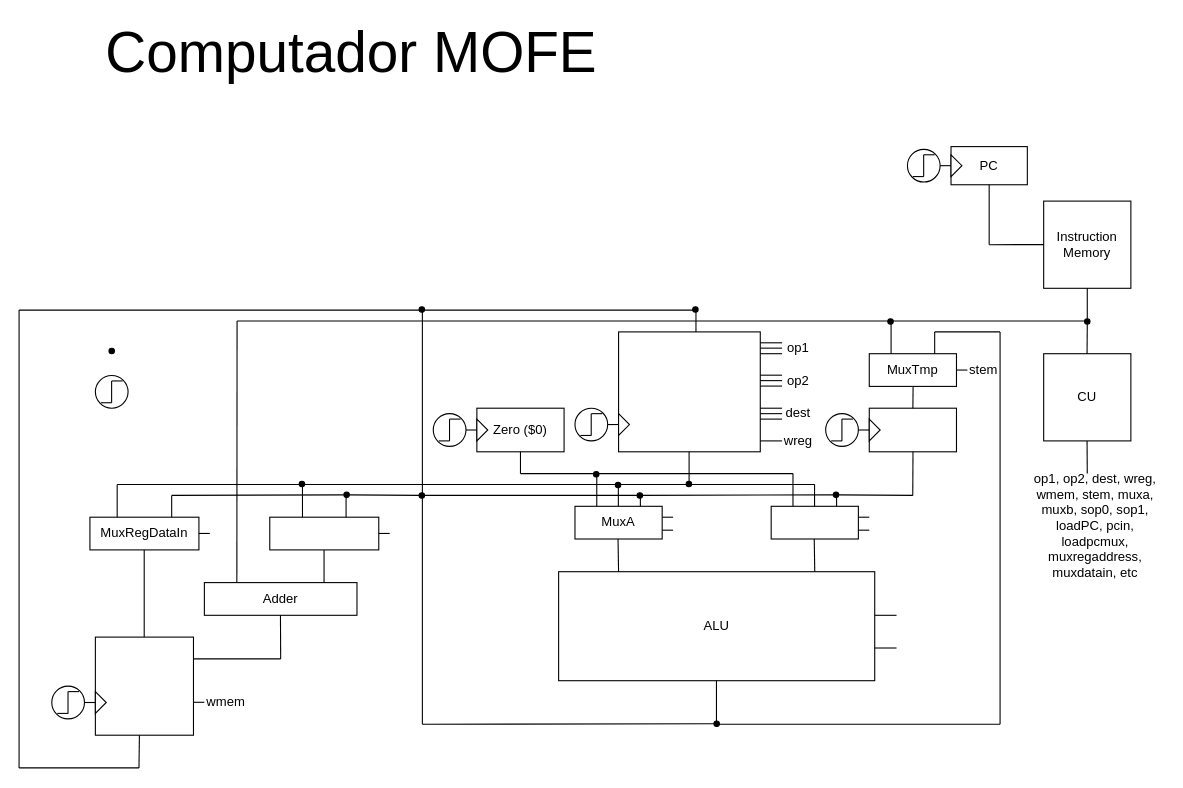
This 1183x788 diagram has some shape labels left out. The shapes that lost their labels are listed below. From the top down, each one's centre as x and y in pixels, then its label:
At (688,391): "Bloque registros ($1 a $8)".
At (912,429): "Temp ($9)".
At (324,533): "MuxRegAddress".
At (814,522): "MuxB".
At (143,685): "Data Memory".
